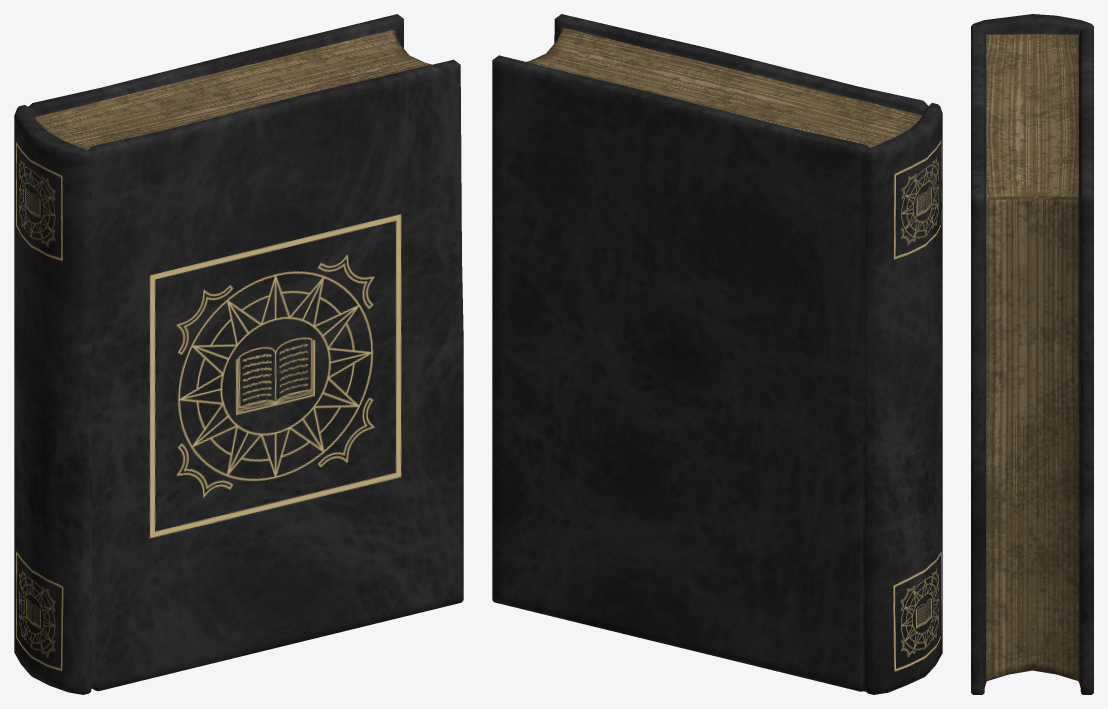
3 views of the same model, side by side, from view 1: azimuth 30°, elevation 25°; view 2: azimuth 150°, elevation 25°; view 3: azimuth 270°, elevation 25° (orthographic). The views are drawn at different scales.
Parts seen in each view (by area): view 1: BookA; view 2: BookA; view 3: BookA.
Boxes of the visible parts, x1,y1,x2,y2 form: BookA: [14, 14, 463, 694]; BookA: [492, 14, 942, 694]; BookA: [971, 14, 1093, 694].
Bounding box in the file's own units: 0.157 × 0.2035 × 0.045.
Materials: 1 (1 with a texture image).
